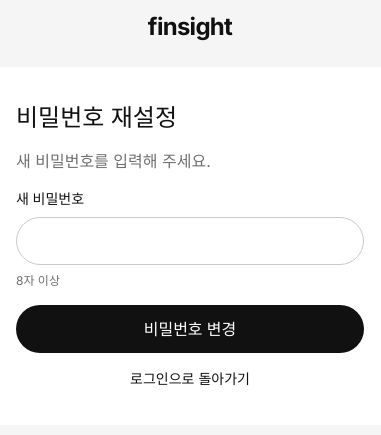
Test: 비밀번호 변경 실패 시 폼과 재시도 버튼을 유지한다
Type "newpassword123" into the password field labelled "새 비밀번호" at (190, 241), box [16,217,364,265]
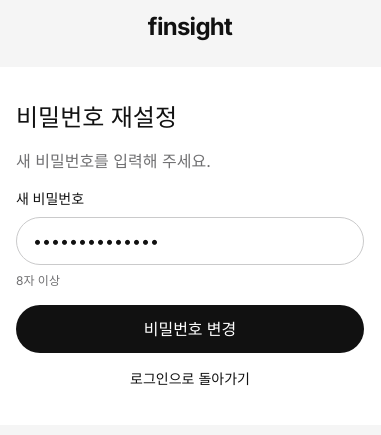
Click the button "비밀번호 변경" at (190, 329), box [16,305,364,353]
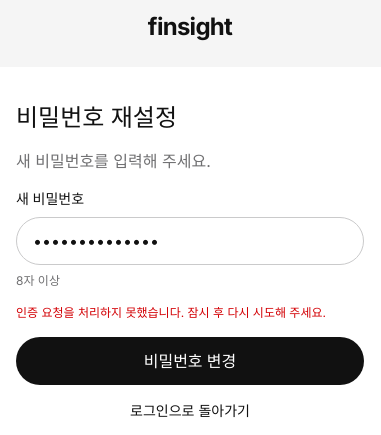
Expected: the button "비밀번호 변경" is enabled, [16,337,364,385]
Expected: the message shows "인증 요청을 처리하지 못했습니다.", [16,305,326,320]
